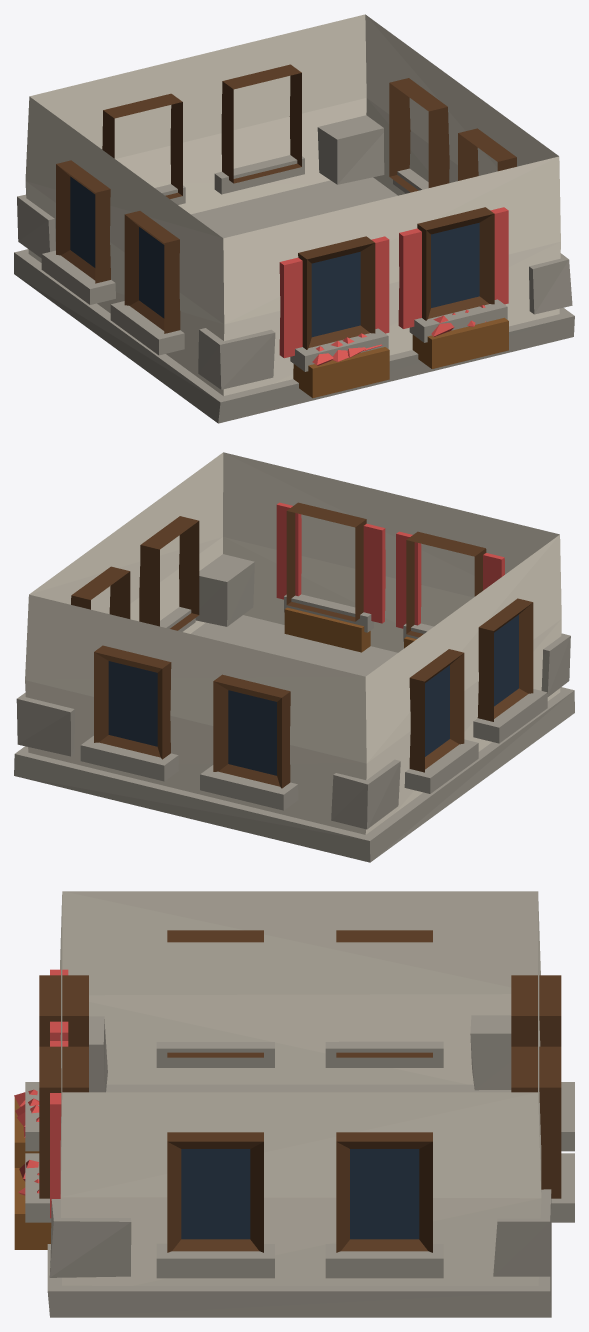
Rendered from tower_floor_b.glb.
3 renders of one model, top to bottom at view 1: azimuth 30°, elevation 25°; view 2: azimuth 150°, elevation 25°; view 3: azimuth 270°, elevation 25°, orthographic. The views are drawn at different scales.
Visible parts, largest first — view 1: tower_floor_b; view 2: tower_floor_b; view 3: tower_floor_b.
Part boxes in pixels (<box>): tower_floor_b: <box>14,14,574,423</box>; tower_floor_b: <box>14,452,574,862</box>; tower_floor_b: <box>14,891,574,1317</box>.
Bounding box in the file's own units: 0.716 × 0.316 × 0.7309.
